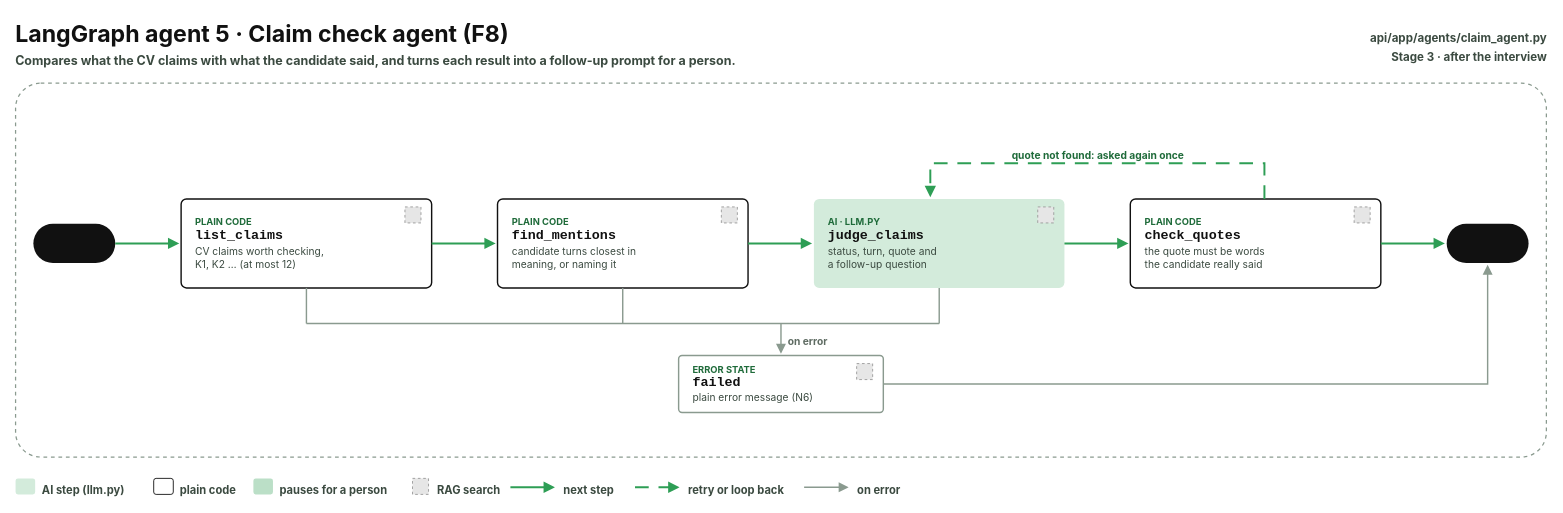
The diagram is 1563 pixels wide and 513 high, and some of its shapes have lost their labels. Grey dashed boxes stand in for pictures. The centre of each missing label's shape, as x and y in pixels:
END: point (1487, 243)
START: point (74, 243)
